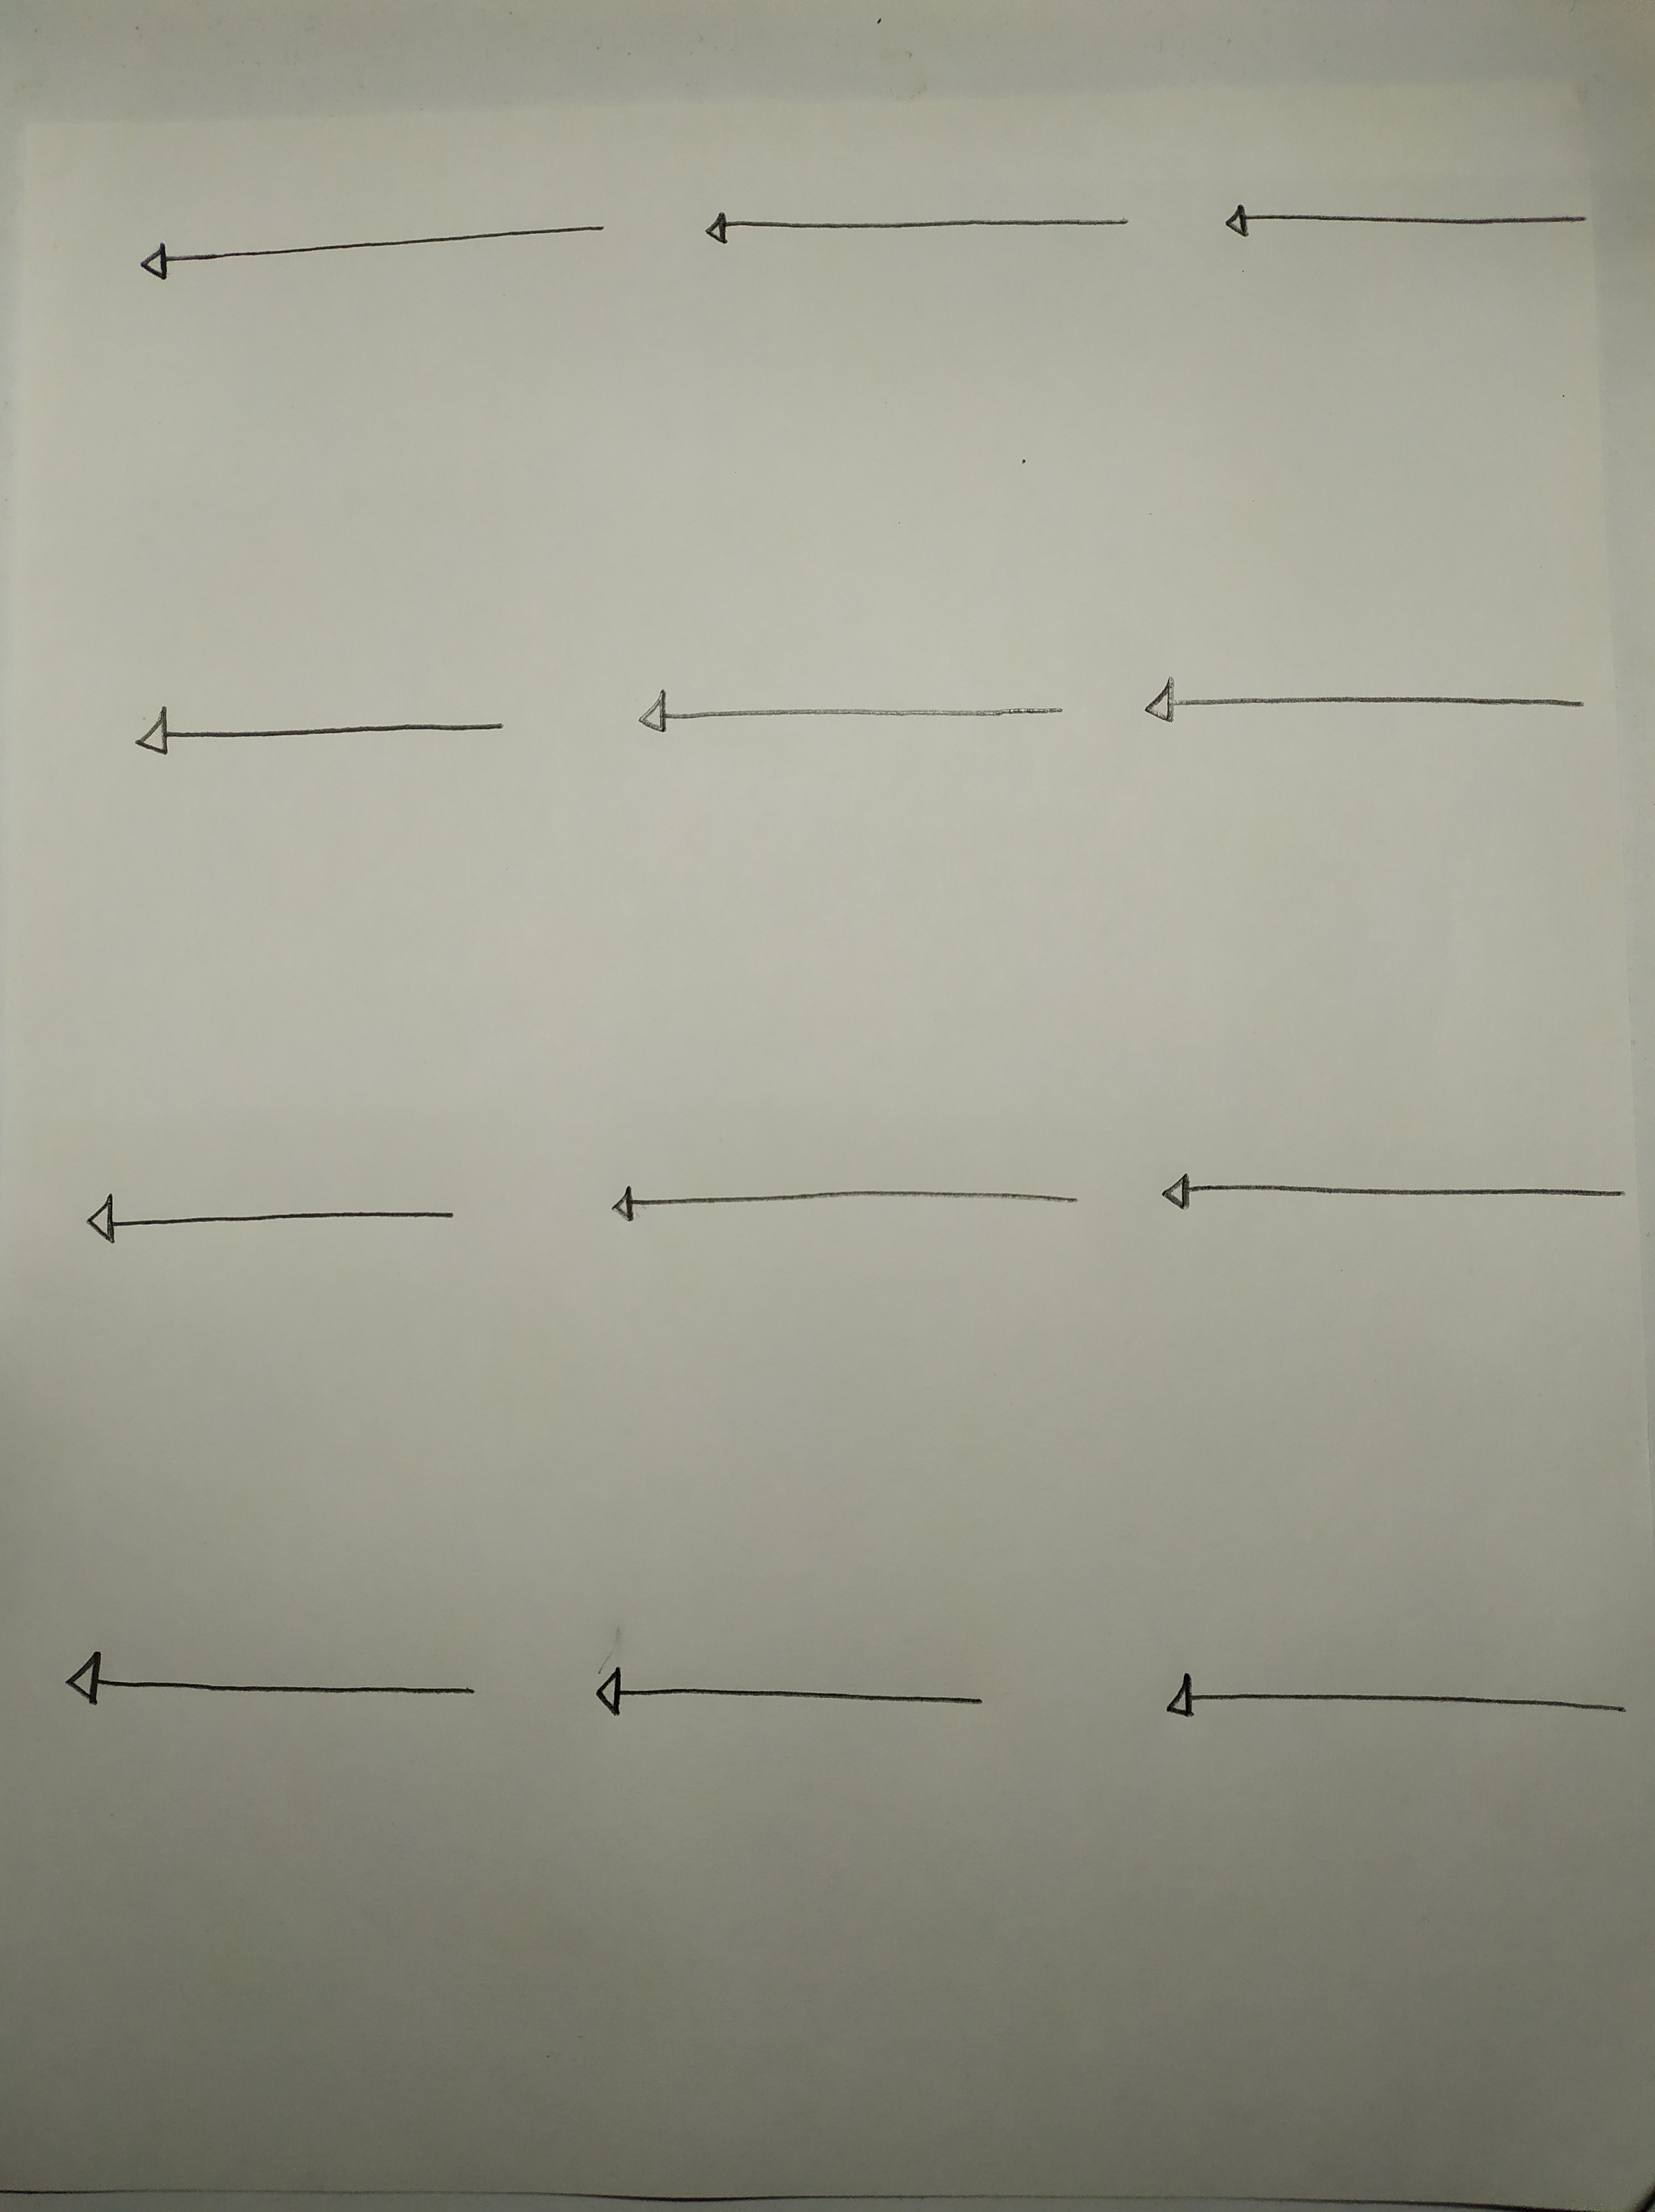arrow_line_left: (1128, 1652, 1638, 1760), (1120, 1143, 1632, 1246), (567, 1164, 1092, 1258), (59, 1173, 489, 1286), (596, 667, 1090, 765), (101, 679, 546, 785), (111, 200, 629, 290), (1125, 657, 1601, 752), (45, 1642, 497, 1732), (565, 1652, 1029, 1734), (685, 189, 1151, 269), (1201, 179, 1612, 268)
